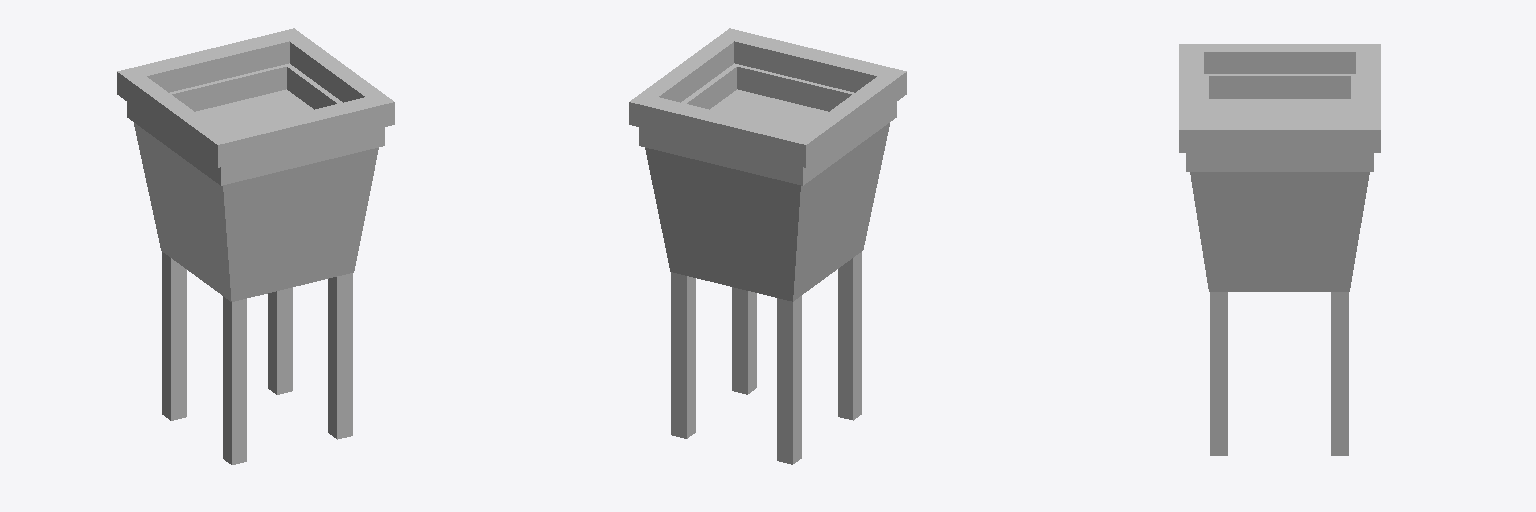
File: leaf_mulcher.obj
3 renders of one model, left to right at view 1: azimuth 30°, elevation 25°; view 2: azimuth 150°, elevation 25°; view 3: azimuth 270°, elevation 25°, orthographic.
Parts seen in each view (by area): view 1: Cube.004; view 2: Cube.004; view 3: Cube.004.
Boxes of the visible parts, x1=… form: Cube.004: x1=117, y1=28, x2=394, y2=464; Cube.004: x1=629, y1=28, x2=906, y2=464; Cube.004: x1=1179, y1=44, x2=1380, y2=455.
Bounding box in the file's own units: 1.13 × 2.07 × 1.12.